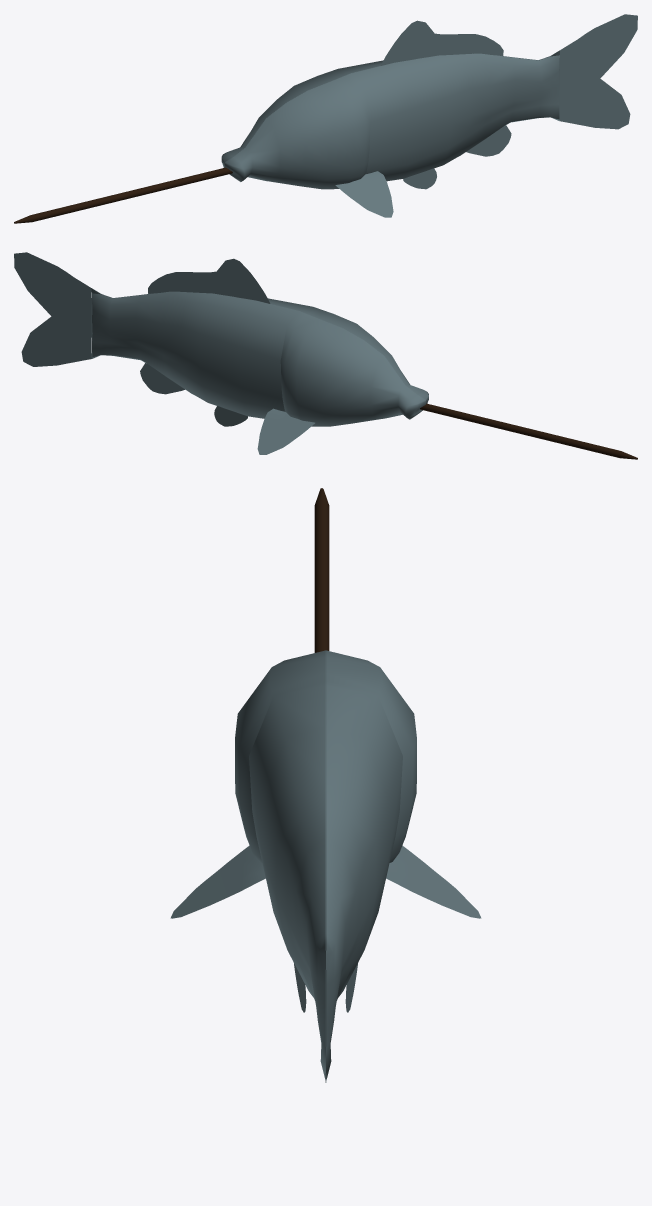
File: Fish on stick.FBX
3 renders of one model, top to bottom at view 1: azimuth 30°, elevation 25°; view 2: azimuth 150°, elevation 25°; view 3: azimuth 270°, elevation 25°, orthographic. The views are drawn at different scales.
Visible parts, largest first — view 1: Plane014, Cylinder001; view 2: Plane014, Cylinder001; view 3: Plane014, Cylinder001.
Boxes of the visible parts, x1=… form: Plane014: x1=221, y1=14, x2=637, y2=217; Cylinder001: x1=14, y1=167, x2=232, y2=223; Plane014: x1=14, y1=252, x2=428, y2=454; Cylinder001: x1=420, y1=403, x2=637, y2=459; Plane014: x1=170, y1=650, x2=481, y2=1082; Cylinder001: x1=314, y1=488, x2=329, y2=652.
Bounding box in the file's own units: 1880 × 474 × 407.
